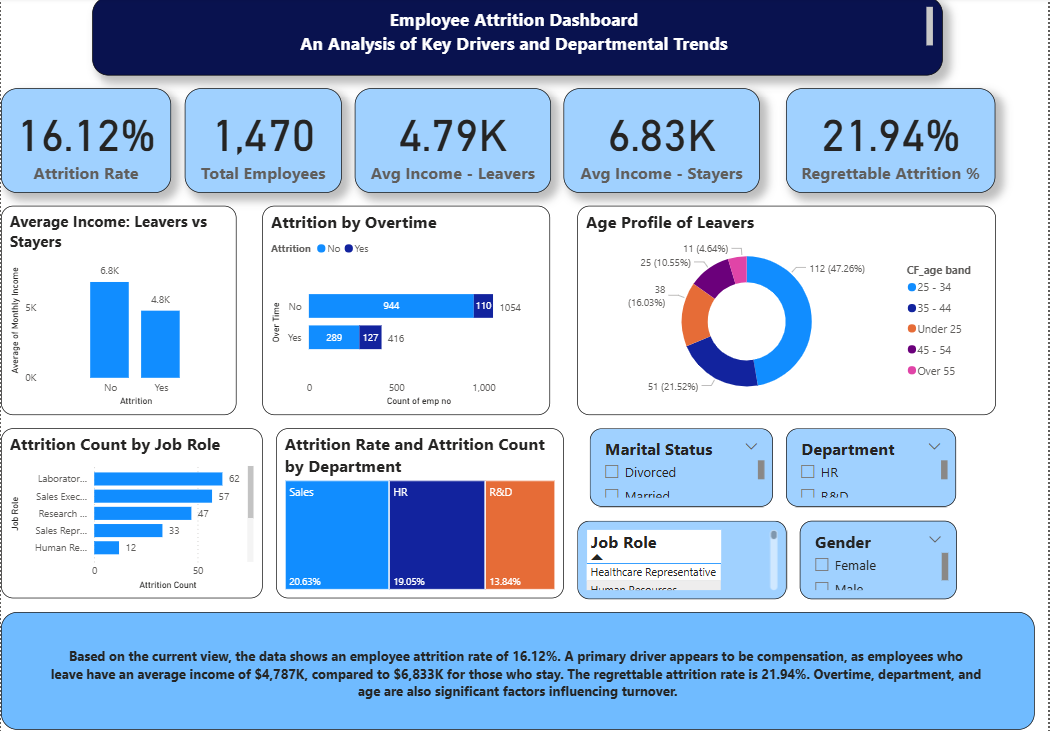

The page's visual inventory and layout, read from the dashboard file:
{"tool":"powerbi","page":{"name":"analyze employee attrition","canvas":[1280,900],"ordinal":0},"visuals":[{"type":"textbox","box":[112,0,1040,96],"z":0},{"type":"card","fields":{"Values":["HrTbl.Attrition Rate"]},"box":[0,112,208,128],"z":1000},{"type":"card","fields":{"Values":["HrTbl.Total Employees"]},"box":[224,112,192,128],"z":2000},{"type":"card","fields":{"Values":["HrTbl.Avg Income - Leavers"]},"box":[432,112,240,128],"z":3000},{"type":"card","fields":{"Values":["HrTbl.Avg Income - Stayers"]},"box":[688,112,240,128],"z":4000},{"type":"card","fields":{"Values":["HrTbl.Regrettable Attrition %"]},"box":[960,112,256,128],"z":5000},{"type":"columnChart","title":"Average Income: Leavers vs Stayers","fields":{"Y":["Avg(HrTbl.Monthly Income)"],"Category":["HrTbl.Attrition"]},"box":[0,256,288,256],"z":6000},{"type":"barChart","title":"  Attrition by Overtime ","fields":{"Category":["HrTbl.Over Time"],"Y":["CountNonNull(HrTbl.emp no)"],"Series":["HrTbl.Attrition"]},"box":[320,256,352,256],"z":7000},{"type":"clusteredBarChart","title":"  Attrition Count by Job Role","fields":{"Category":["HrTbl.Job Role"],"Y":["HrTbl.Attrition Count"]},"box":[0,528,320,208],"z":8000},{"type":"treemap","fields":{"Group":["HrTbl.Department"],"Values":["HrTbl.Attrition Rate"]},"box":[336,528,352,208],"z":9000},{"type":"donutChart","title":" Age Profile of Leavers ","fields":{"Category":["HrTbl.CF_age band"],"Y":["HrTbl.Attrition Count"]},"box":[704,256,512,256],"z":10000},{"type":"tableEx","fields":{"Values":["HrTbl.Job Role"]},"box":[704,640,256,96],"z":11000},{"type":"slicer","fields":{"Values":["HrTbl.Gender"]},"box":[976,640,192,96],"z":12000},{"type":"slicer","fields":{"Values":["HrTbl.Department"]},"box":[960,528,208,96],"z":13000},{"type":"slicer","fields":{"Values":["HrTbl.Marital Status"]},"box":[720,528,224,96],"z":14000},{"type":"card","fields":{"Values":["HrTbl.Attrition Insight"]},"box":[0,752,1264,144],"z":15000}]}

Visuals, with their boxes in screenshot pixels (x1, y1, x2, y2), scaled from the page's 1280x900 canvas onto the 1050x731 screenshot:
textbox: (92, 0, 945, 78)
card - HrTbl.Attrition Rate: (0, 91, 171, 195)
card - HrTbl.Total Employees: (184, 91, 341, 195)
card - HrTbl.Avg Income - Leavers: (354, 91, 551, 195)
card - HrTbl.Avg Income - Stayers: (564, 91, 761, 195)
card - HrTbl.Regrettable Attrition %: (788, 91, 998, 195)
"Average Income: Leavers vs Stayers" columnChart: (0, 208, 236, 416)
"  Attrition by Overtime " barChart: (262, 208, 551, 416)
"  Attrition Count by Job Role" clusteredBarChart: (0, 429, 262, 598)
treemap - HrTbl.Department x HrTbl.Attrition Rate: (276, 429, 564, 598)
" Age Profile of Leavers " donutChart: (578, 208, 998, 416)
tableEx - HrTbl.Job Role: (578, 520, 788, 598)
slicer - HrTbl.Gender: (801, 520, 958, 598)
slicer - HrTbl.Department: (788, 429, 958, 507)
slicer - HrTbl.Marital Status: (591, 429, 774, 507)
card - HrTbl.Attrition Insight: (0, 611, 1037, 728)
